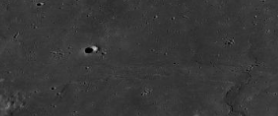crater: (55, 27, 161, 77)
